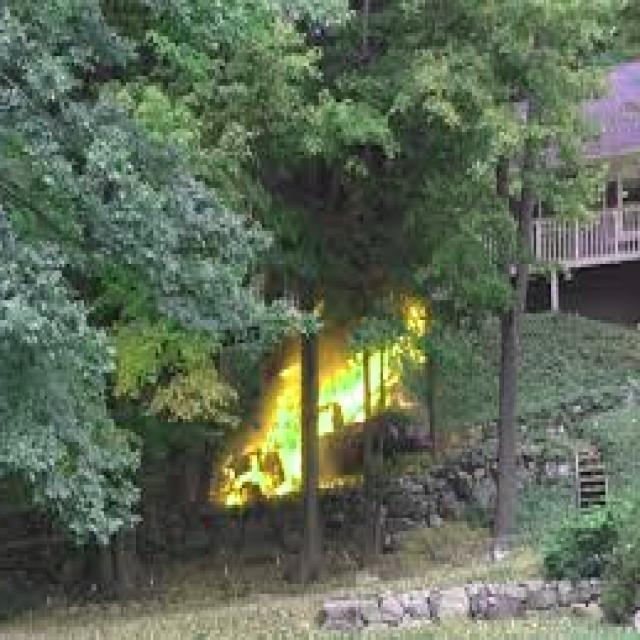fire: (205, 287, 437, 525)
